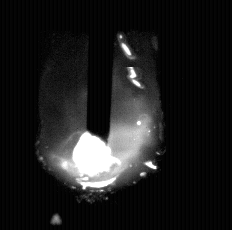arame: (88, 0, 112, 144)
poca: (37, 0, 158, 230)
